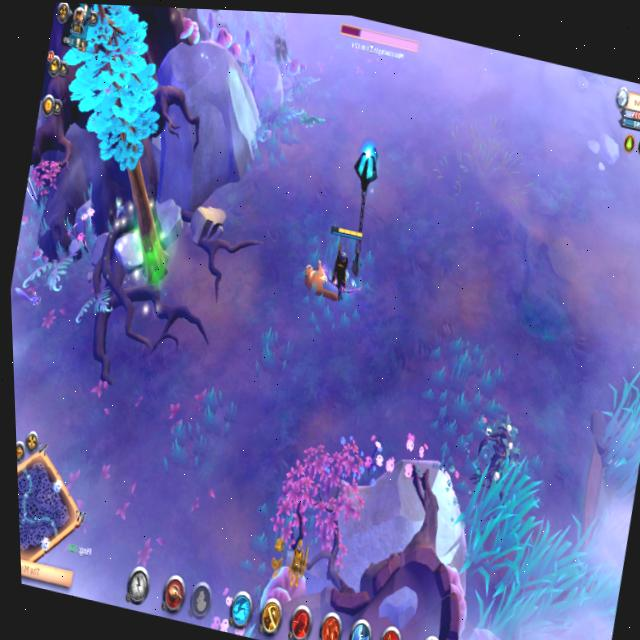10: (328, 137, 390, 292)
mob: (296, 256, 345, 309)
ore: (456, 407, 533, 525)
red: (316, 220, 371, 312)
wisp caged: (29, 1, 224, 296)
